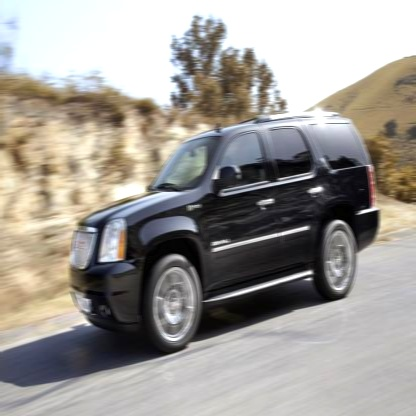Vehicle: (68, 108, 382, 350)
